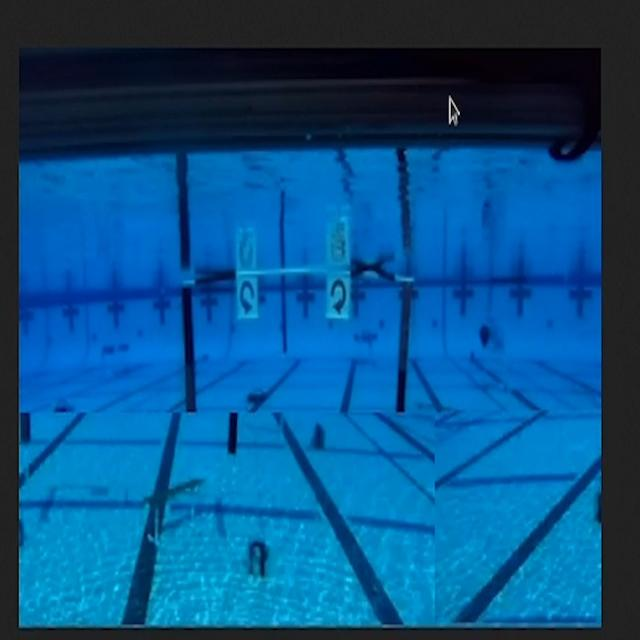Gate: (176, 267, 416, 423)
